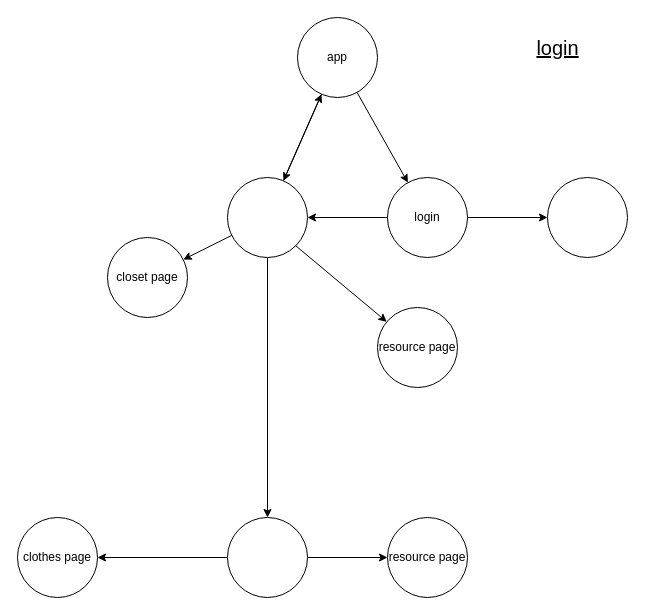
Image size: 645x615. Some labels were removed from this diagram. Each missing label, with the centre of its shape:
"brand pages" goes at point (267, 557).
"homepage" goes at point (267, 217).
"signup" goes at point (587, 217).
